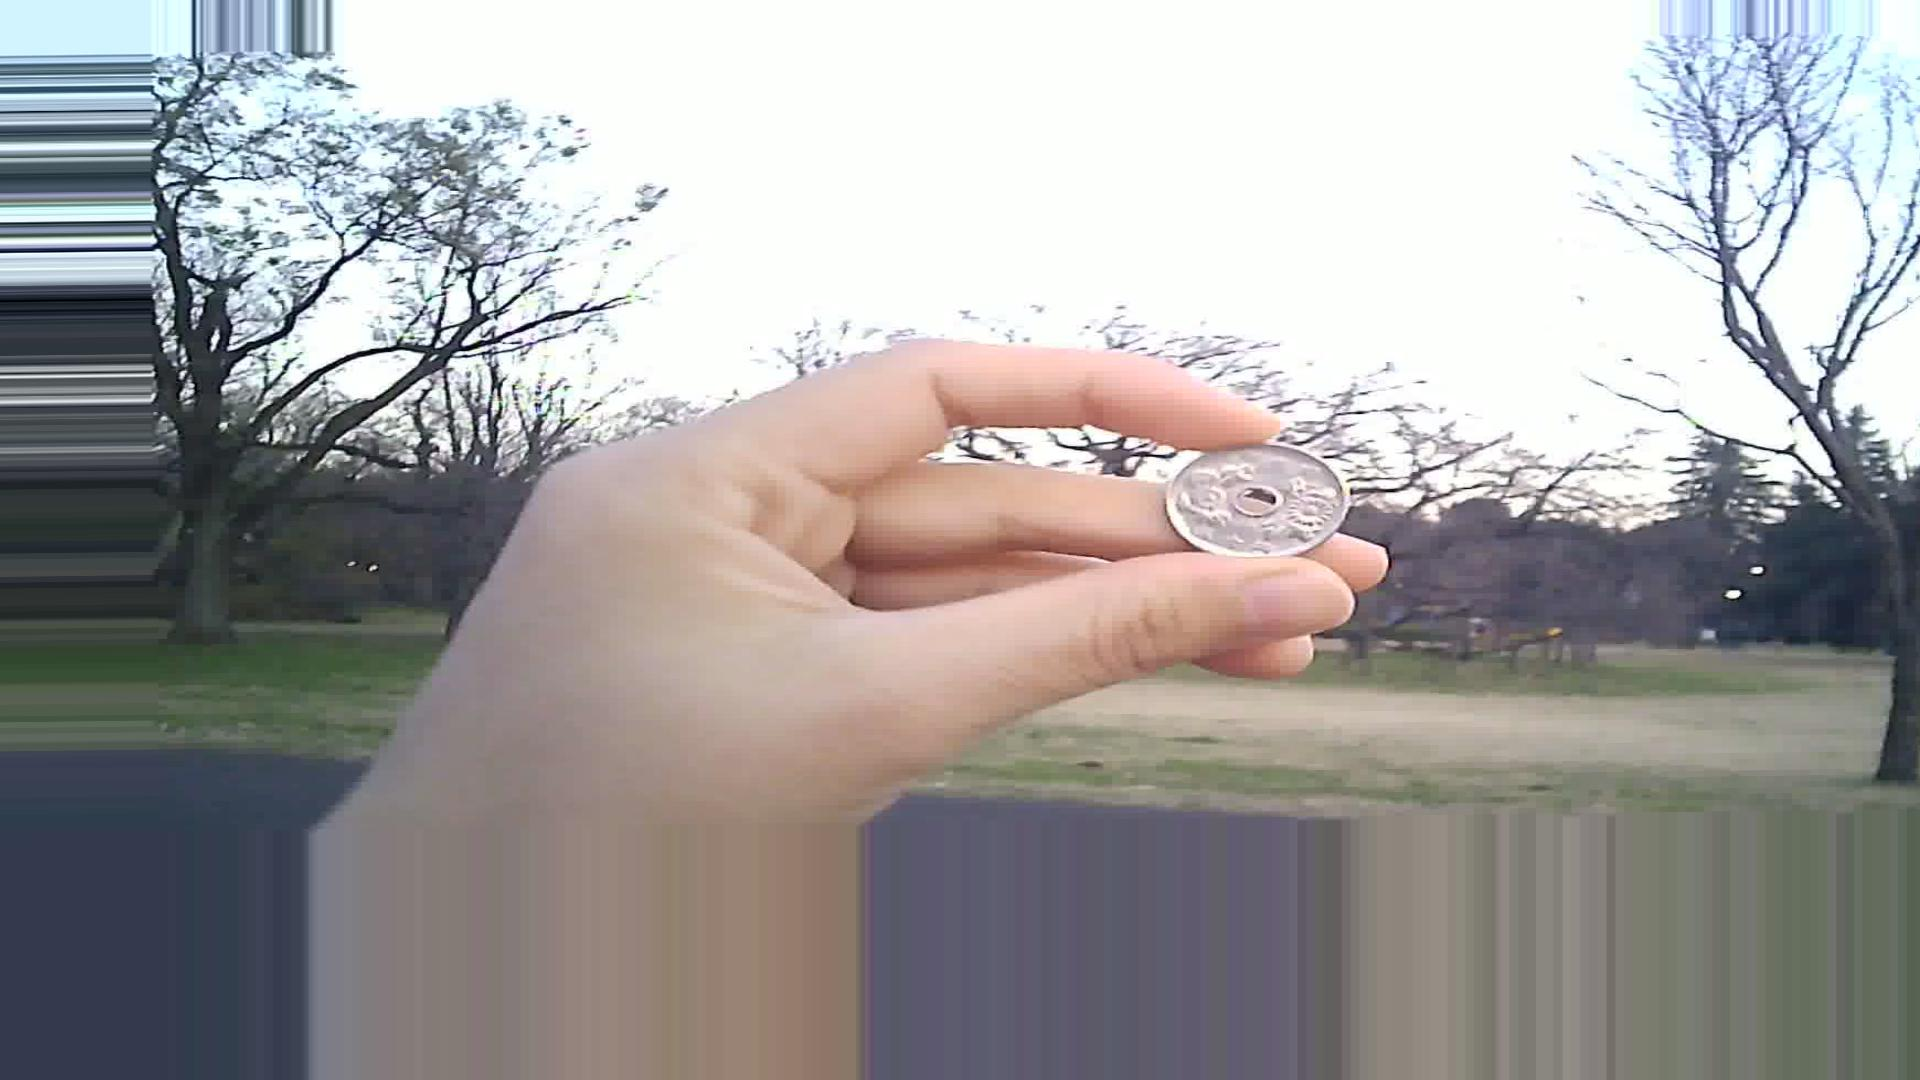50 Yen: (1160, 430, 1344, 570)
